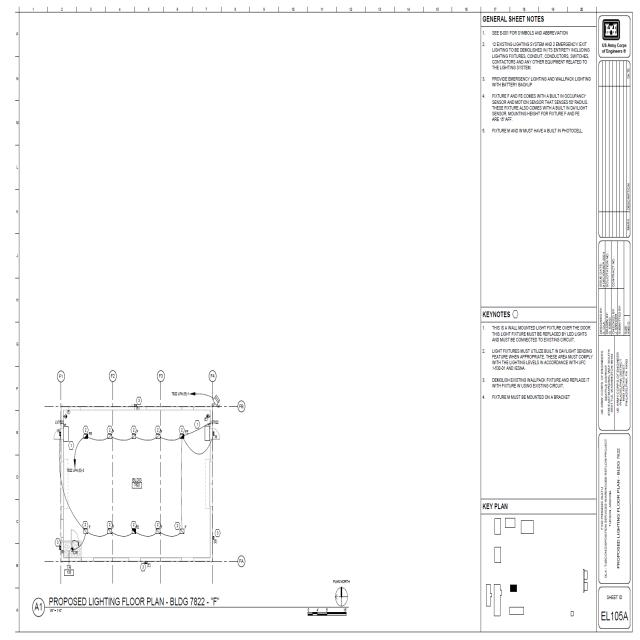Emergency Light: (126, 378, 140, 416), (152, 521, 167, 555), (78, 428, 93, 451), (208, 392, 222, 414), (104, 524, 120, 543), (152, 430, 170, 445), (126, 428, 140, 447), (80, 524, 92, 545), (201, 425, 213, 445), (104, 425, 115, 445), (129, 523, 141, 540), (174, 522, 187, 537), (177, 428, 190, 442), (210, 535, 222, 549), (68, 545, 80, 557), (58, 539, 64, 555), (142, 559, 150, 570)
